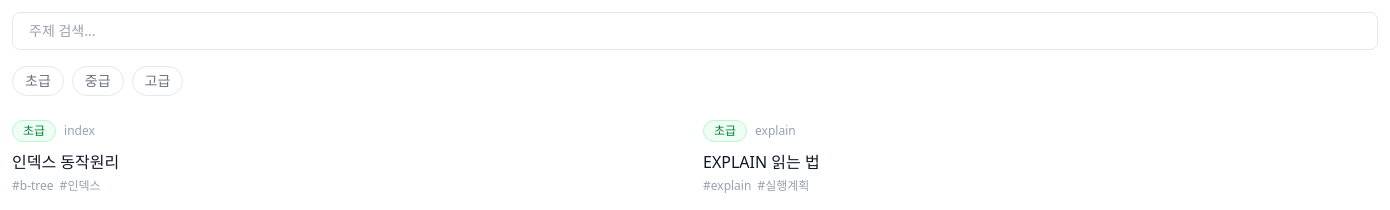
Test: ContentList › 검색 결과가 없을 때 안내 메시지를 표시한다
Type "존재하지않는검색어" into the field with placeholder "주제 검색..." at (695, 31), box 12,12 -> 1378,50
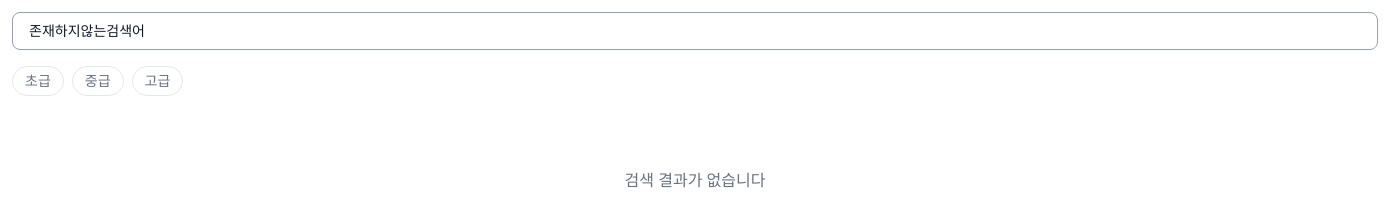
Result: the text "검색 결과가 없습니다" is shown at 625,169 -> 765,191
